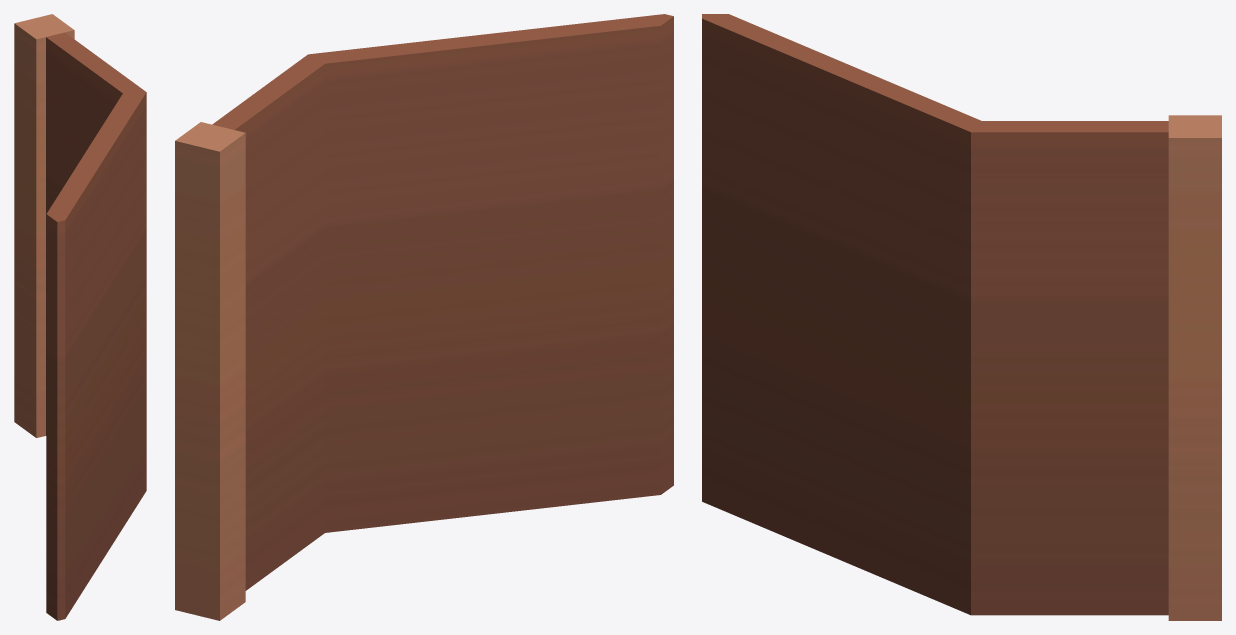
Rendered from wall-wood-corner-diagonal-half.glb.
3 renders of one model, left to right at view 1: azimuth 30°, elevation 25°; view 2: azimuth 150°, elevation 25°; view 3: azimuth 270°, elevation 25°, orthographic. The views are drawn at different scales.
Visible parts, largest first — view 1: wall-wood-corner-diagonal-half; view 2: wall-wood-corner-diagonal-half; view 3: wall-wood-corner-diagonal-half.
Boxes of the visible parts, bbox=[...] form: wall-wood-corner-diagonal-half: bbox=[14, 14, 146, 620]; wall-wood-corner-diagonal-half: bbox=[175, 14, 673, 620]; wall-wood-corner-diagonal-half: bbox=[702, 14, 1221, 620].
Bounding box in the file's own units: 0.55 × 1 × 0.975.
Materials: 1 (1 with a texture image).
